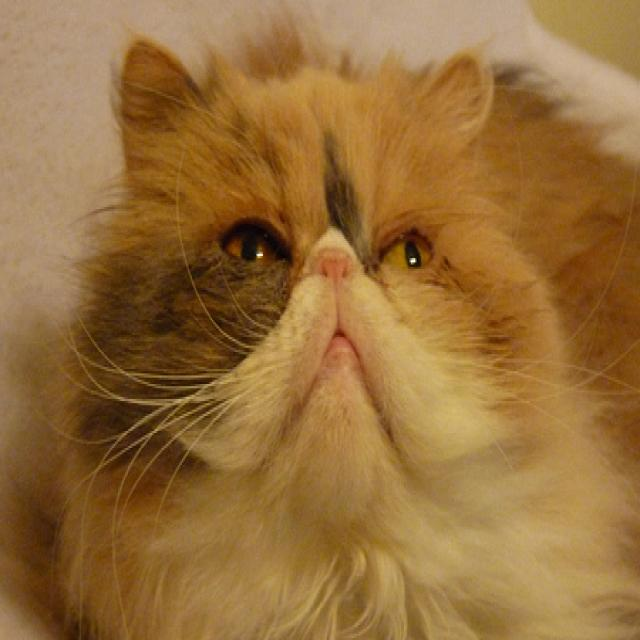Persian: (30, 23, 640, 640)
